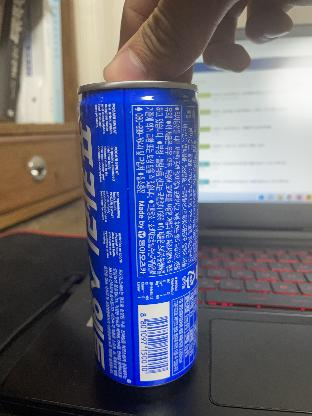Can: (77, 80, 199, 390)
